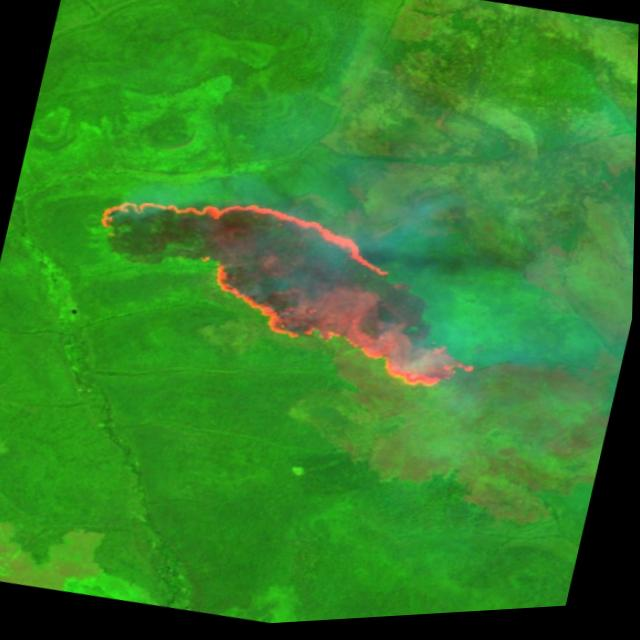fire: (69, 160, 515, 422)
